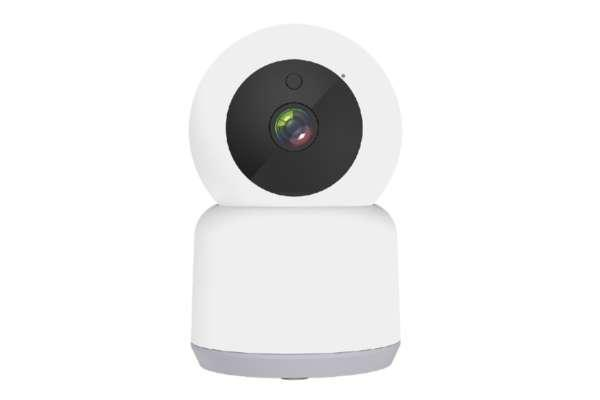maru: (187, 20, 401, 381)
